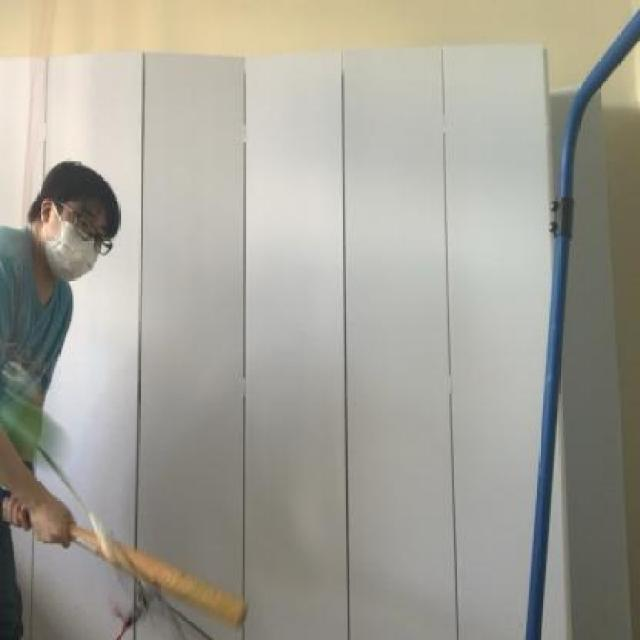baseball: (0, 383, 74, 486)
